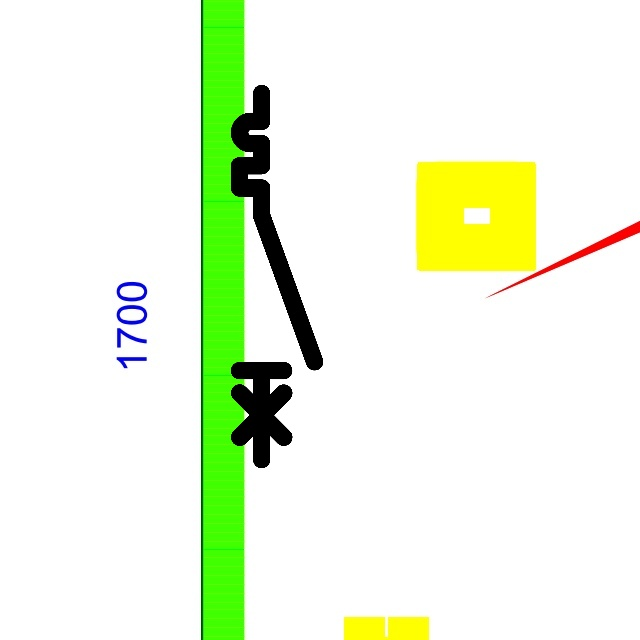interruptor_termomagnetico: (230, 84, 324, 469)
